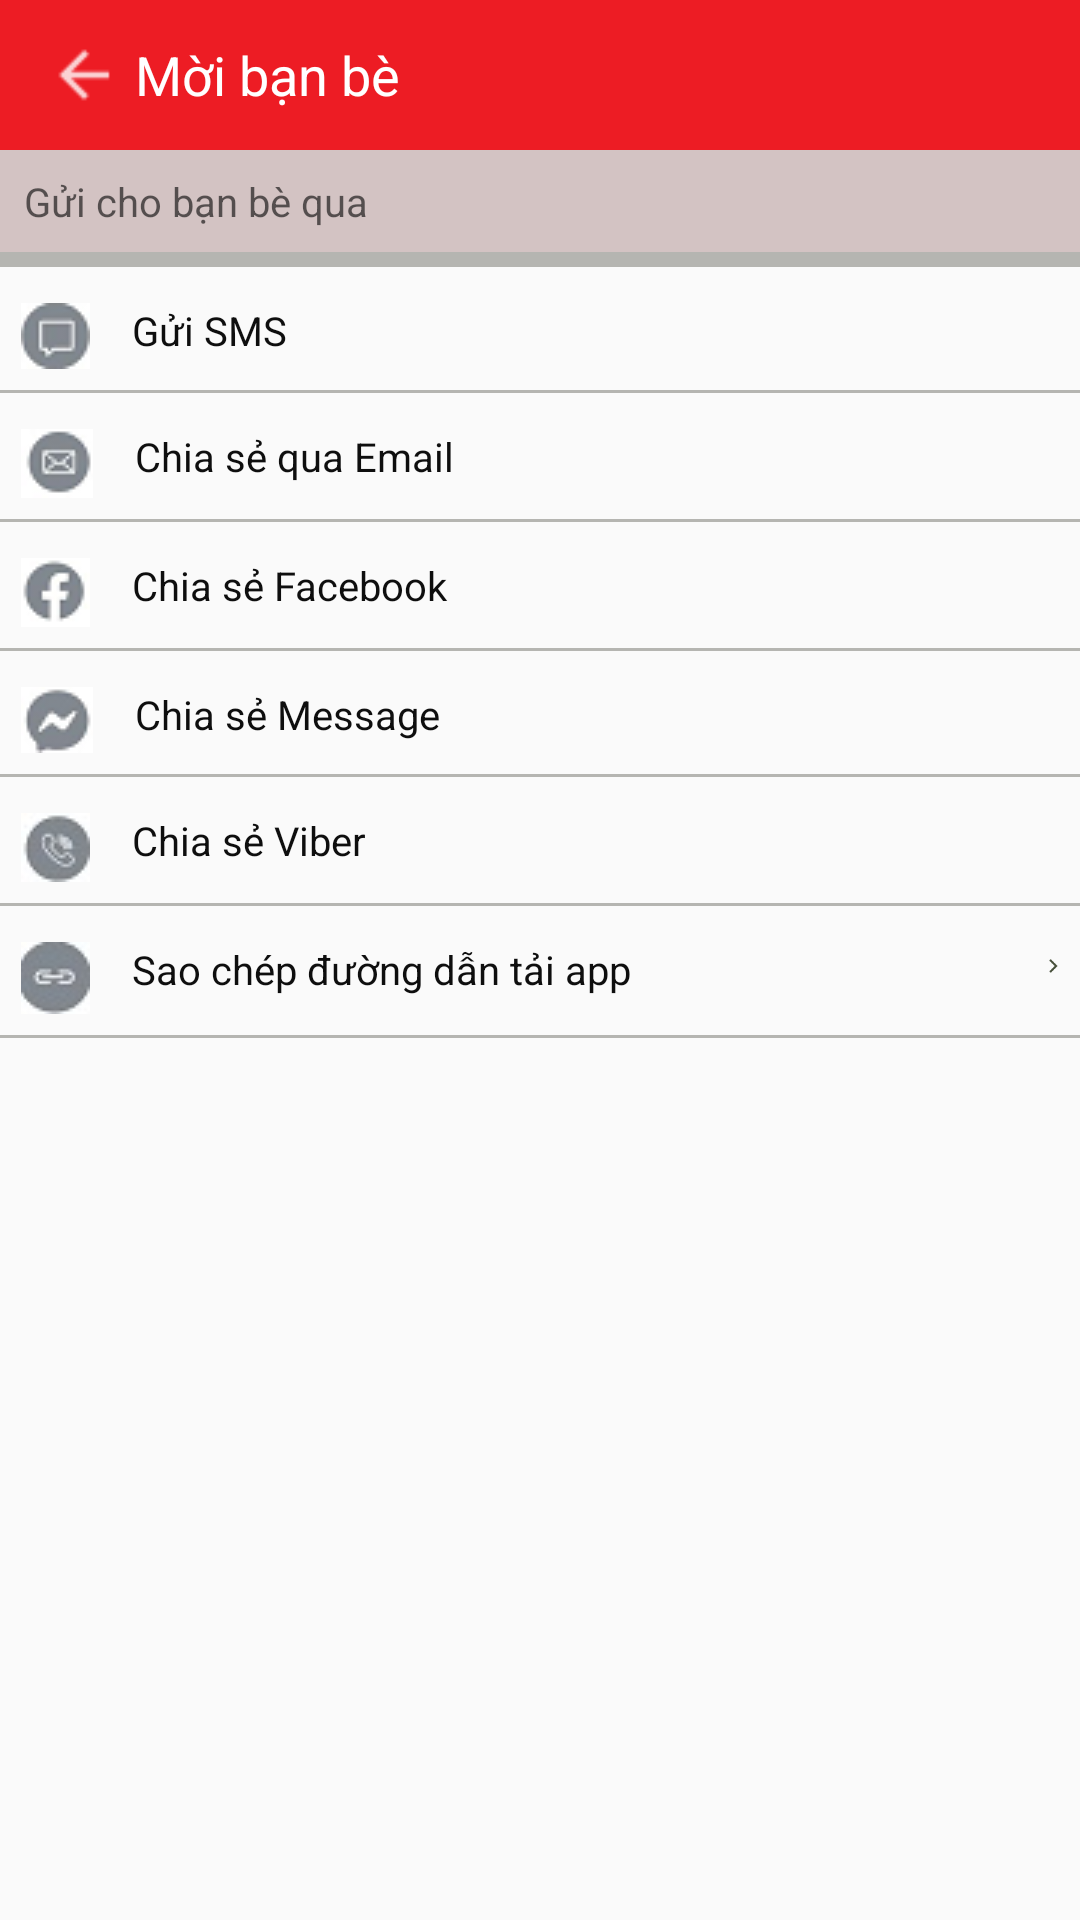

Icon bounding boxes for this 1080 × 1920 phone screenshot, format {"x1": x1, "y1": y1, "x2": x2, "y2": y2}:
back: {"x1": 59, "y1": 49, "x2": 110, "y2": 100}
saochep: {"x1": 21, "y1": 942, "x2": 90, "y2": 1014}
